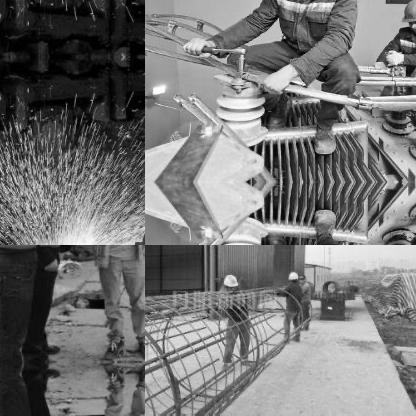Helmet: (399, 0, 415, 33), (222, 271, 240, 293), (286, 269, 300, 283)
